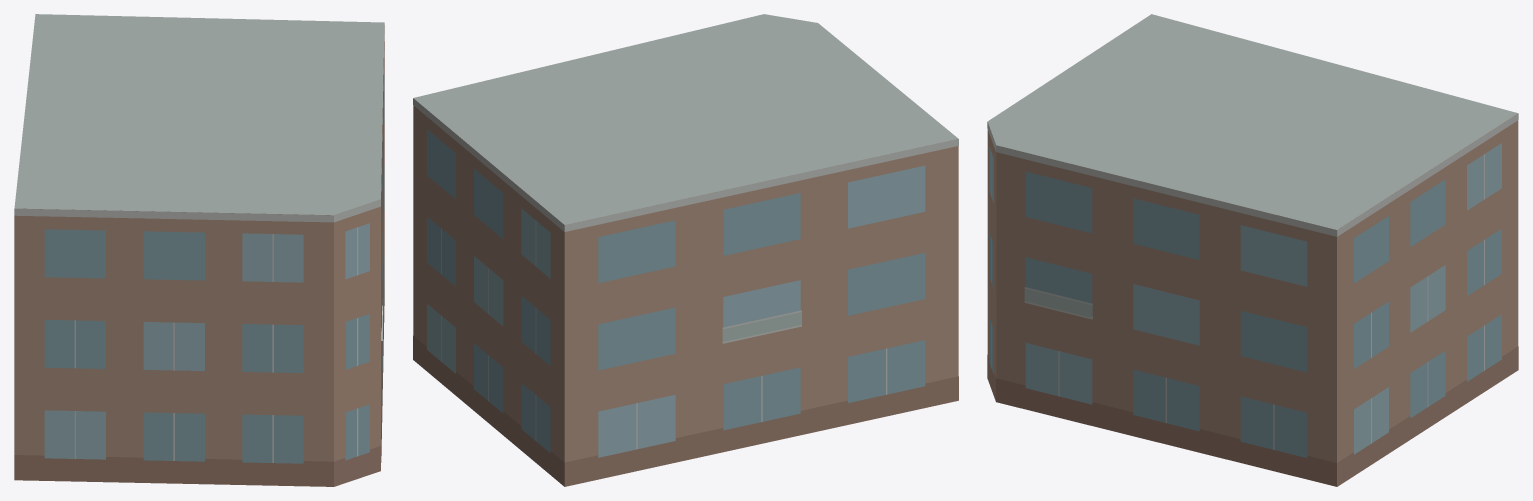
The model's file is survey-upis-32527885.glb.
3 renders of one model, left to right at view 1: azimuth 30°, elevation 25°; view 2: azimuth 150°, elevation 25°; view 3: azimuth 270°, elevation 25°, orthographic. The views are drawn at different scales.
Parts seen in each view (by area): view 1: survey-upis-32527885.tmp; view 2: survey-upis-32527885.tmp; view 3: survey-upis-32527885.tmp.
Boxes of the visible parts, <box> form: survey-upis-32527885.tmp: <box>14,14,384,486</box>; survey-upis-32527885.tmp: <box>413,14,958,486</box>; survey-upis-32527885.tmp: <box>987,14,1518,486</box>.
Size of the model in its own units: 16.51 by 9.15 by 17.15.
